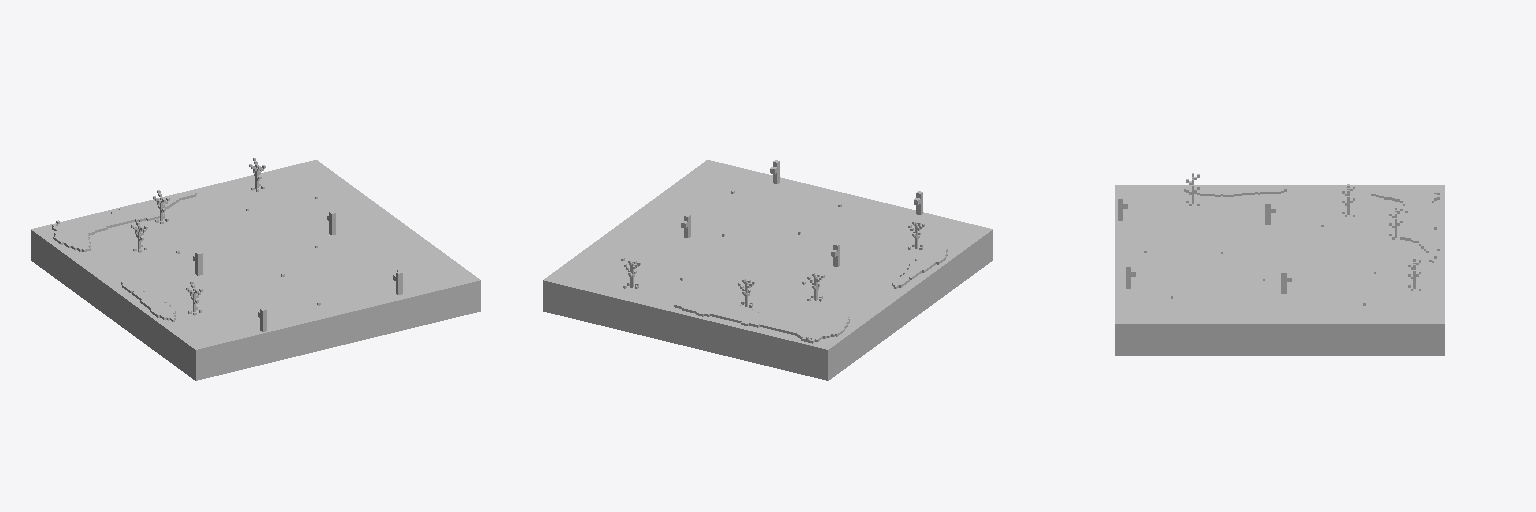
File: Map (30).obj
3 renders of one model, left to right at view 1: azimuth 30°, elevation 25°; view 2: azimuth 150°, elevation 25°; view 3: azimuth 270°, elevation 25°, orthographic.
Visible parts, largest first — view 1: ALL MAP!!!!!!!!!!!-27; view 2: ALL MAP!!!!!!!!!!!-27; view 3: ALL MAP!!!!!!!!!!!-27.
Boxes of the visible parts, x1,y1,x2,y2 form: ALL MAP!!!!!!!!!!!-27: [31, 158, 480, 380]; ALL MAP!!!!!!!!!!!-27: [543, 160, 992, 380]; ALL MAP!!!!!!!!!!!-27: [1115, 173, 1444, 355].
Bounding box in the file's own units: 125 × 25 × 125.